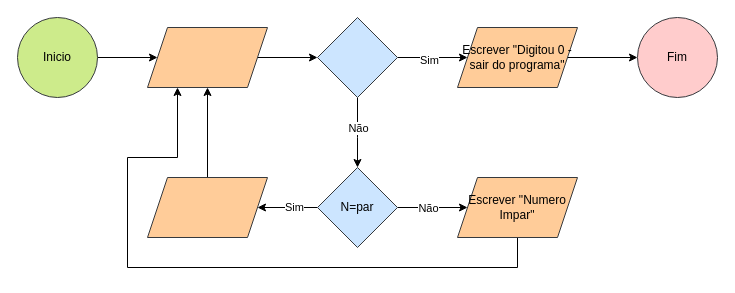
This 735x293 diagram has some shape labels left out. Here are the shapes that lost their labels. From the top down, the centre of each, then its label:
[207,57]: Ler N
[357,57]: N=0
[207,207]: Escrever "Numero Par"
